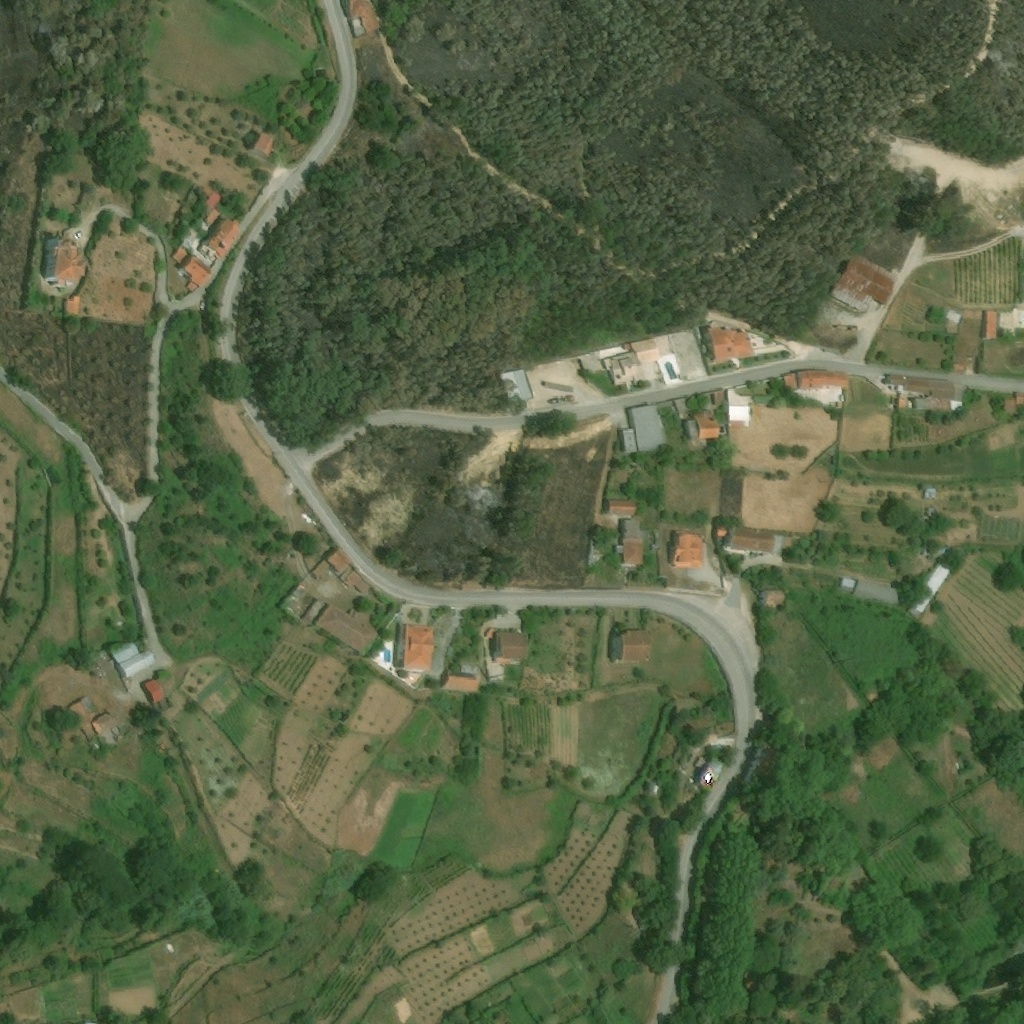0 no-damage: (827, 250, 899, 316), (314, 601, 379, 656), (69, 695, 123, 742), (42, 237, 87, 288), (908, 563, 951, 616), (392, 621, 436, 670), (706, 322, 755, 362), (631, 403, 663, 453), (852, 576, 901, 608), (603, 349, 644, 386), (611, 628, 652, 663), (207, 218, 243, 257), (669, 531, 707, 567), (343, 0, 379, 36), (728, 525, 776, 552), (118, 647, 159, 678), (339, 565, 373, 596), (791, 387, 843, 407), (495, 631, 529, 661), (347, 606, 383, 634), (184, 257, 211, 293), (323, 544, 353, 575), (799, 370, 848, 388), (630, 338, 661, 365), (299, 595, 326, 625), (198, 182, 223, 214), (696, 412, 727, 437), (700, 756, 723, 787), (111, 639, 140, 663), (513, 367, 534, 400), (500, 371, 521, 402), (179, 227, 203, 252), (252, 131, 275, 157), (622, 517, 648, 539), (621, 539, 643, 565), (446, 673, 479, 690), (929, 377, 957, 397), (940, 306, 962, 331), (144, 678, 165, 703), (586, 530, 600, 567), (728, 404, 751, 426), (621, 427, 639, 455), (157, 673, 178, 697), (903, 374, 930, 392), (982, 310, 997, 338), (608, 499, 638, 513), (760, 588, 785, 604), (311, 558, 330, 578), (351, 16, 367, 39), (170, 244, 189, 263), (203, 208, 221, 228), (65, 294, 81, 316), (912, 397, 932, 410), (784, 371, 799, 387), (684, 418, 696, 436), (649, 529, 659, 549), (923, 485, 937, 499), (1005, 398, 1016, 414), (839, 577, 855, 588), (713, 389, 724, 404), (889, 373, 905, 383), (950, 398, 962, 411), (898, 395, 909, 408), (953, 360, 966, 371), (923, 504, 935, 515), (693, 757, 704, 769), (1015, 390, 1023, 406), (484, 628, 495, 639), (779, 537, 789, 549), (715, 524, 725, 535), (729, 420, 742, 427), (614, 545, 622, 554)
4 un-classified: (670, 392, 714, 418), (467, 460, 502, 490), (748, 747, 773, 781), (687, 779, 692, 784)
